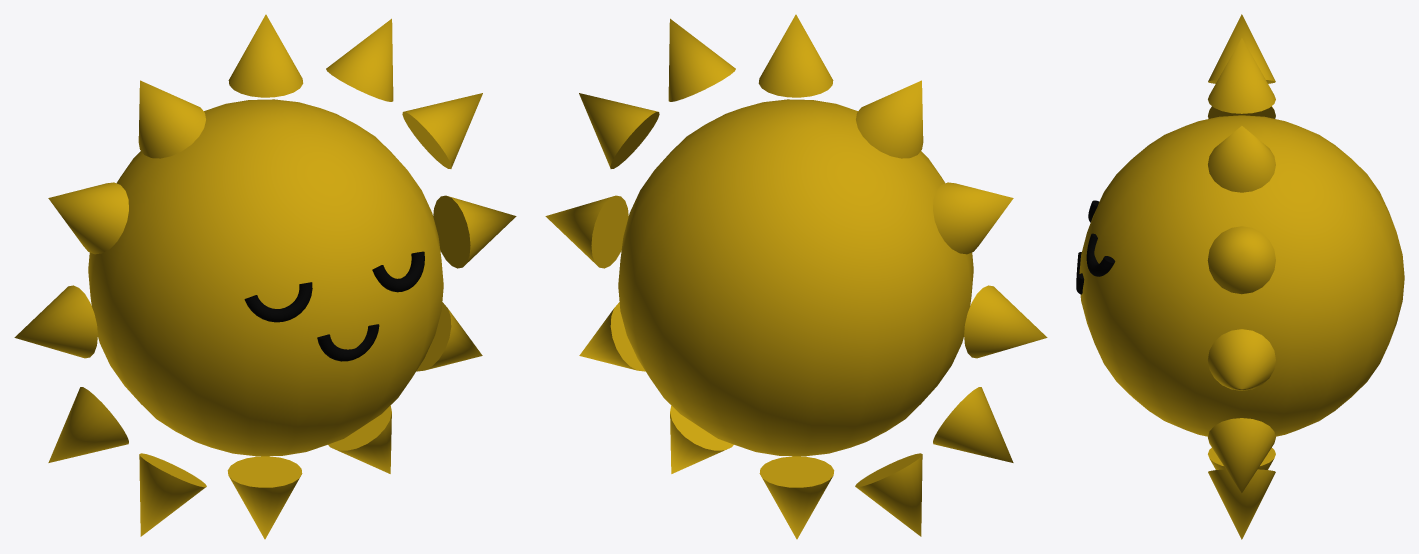
The model's file is sun.obj.
The picture shows the model from 3 angles, left to right: view 1: azimuth 30°, elevation 25°; view 2: azimuth 150°, elevation 25°; view 3: azimuth 270°, elevation 25°; orthographic projection. The views are drawn at different scales.
Visible parts, largest first — view 1: pSphere1, pCone11, pCone10, pCone5, pCone2, pCone4, pCone3, pCone7, pCone12, pCone13, pCone6, pCone9 (+4 smaller); view 2: pSphere1, pCone11, pCone10, pCone5, pCone2, pCone4, pCone3, pCone7, pCone12, pCone13, pCone6, pCone9 (+1 smaller); view 3: pSphere1, pCone7, pCone3, pCone6, pCone8, pCone2, pCone9, pCone10, pCylinder4, pCone11, pCone4.
Part boxes in pixels (x1,y1,x2,y2): pSphere1: (88,99,443,456); pCone11: (48,182,128,254); pCone10: (138,80,205,158); pCone5: (14,285,97,358); pCone2: (228,14,303,97); pCone4: (227,456,302,539); pCone3: (433,195,516,268); pCone7: (402,93,482,168); pCone12: (48,387,128,462); pCone13: (139,453,206,536); pCone6: (326,18,393,101); pCone9: (328,405,391,473); pSphere1: (618,99,973,456); pCone11: (933,182,1013,254); pCone10: (856,80,923,158); pCone5: (964,285,1047,358); pCone2: (758,14,833,97); pCone4: (759,456,834,539); pCone3: (545,195,628,268); pCone7: (579,93,659,168); pCone12: (933,387,1013,462); pCone13: (855,453,922,536); pCone6: (668,18,735,101); pCone9: (670,405,733,473); pSphere1: (1079,115,1404,436); pCone7: (1207,226,1275,294); pCone3: (1208,329,1275,390); pCone6: (1208,126,1275,192); pCone8: (1208,418,1275,492); pCone2: (1208,38,1275,113); pCone9: (1208,469,1275,539); pCone10: (1208,14,1275,83); pCylinder4: (1086,233,1115,276); pCone11: (1208,106,1275,118); pCone4: (1208,448,1275,469).
Bounding box in the file's own units: 3.24 × 3.24 × 2.02.
